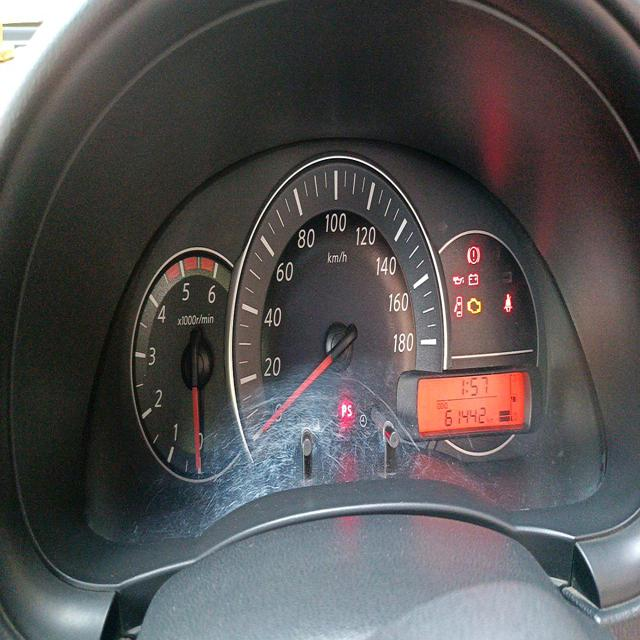odometer: (443, 402, 488, 432)
